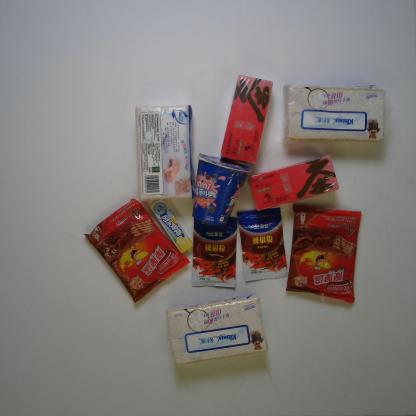Candy: (150, 198, 193, 254)
Dessert: (83, 198, 191, 305), (285, 202, 362, 304), (191, 153, 252, 229)
Instant Drink: (247, 154, 339, 212), (219, 74, 274, 166)
Seasoner: (236, 206, 289, 282), (192, 216, 238, 288)
Tissue: (165, 292, 269, 366), (282, 83, 387, 143), (134, 105, 196, 202)
